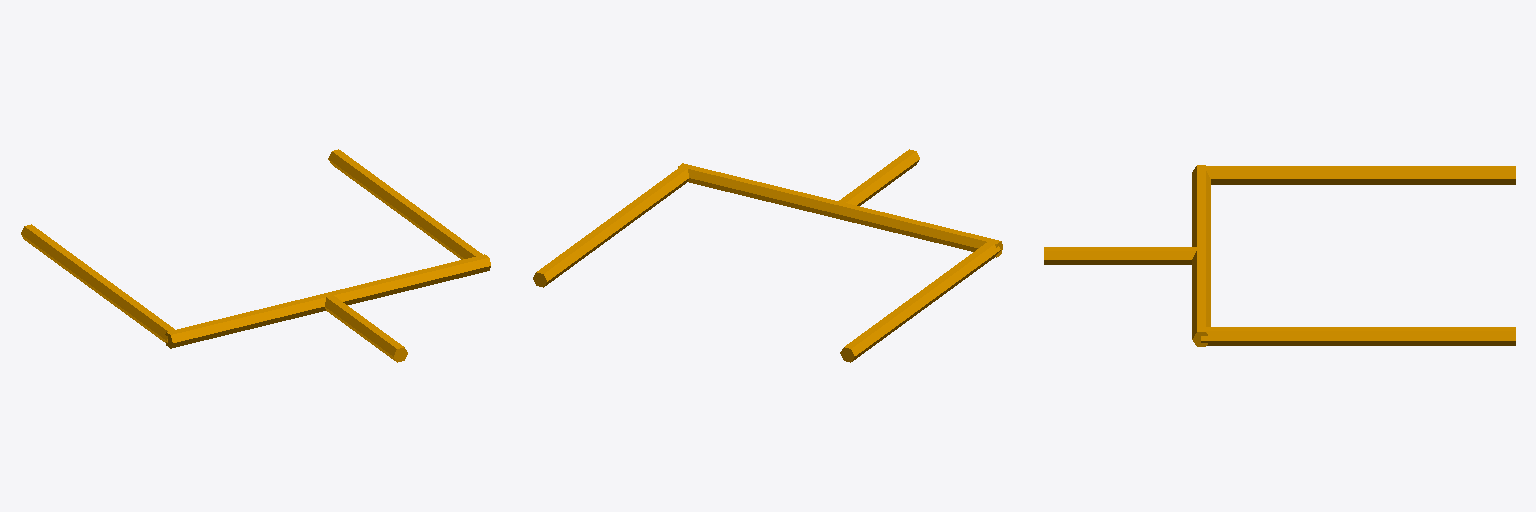
The robot description file, URDF, robot "gripper":
<?xml version="1.0"?>
<robot name="gripper">
    <!-- <link name="base_link">
    </link> -->
    <link name="gripper_link">
        <visual>
            <origin rpy="0 0 0" xyz="0 0 0" />
            <geometry>
                <mesh filename="./gripper_yes.obj" scale="1 1 1" />
            </geometry>
        </visual>
        <collision>
            <origin rpy="0 0 0" xyz="0 0 0" />
            <geometry>
                <mesh filename="./gripper_yes.obj" scale="1 1 1" />
            </geometry>
        </collision>
    </link>

    <!-- <joint name="gripper_base_joint" type="fixed">
        <origin rpy="0 0 0" xyz="0 0 0" />
        <parent link="base_link" />
        <child link="gripper_link"/>        
    </joint>
     -->
</robot>

--- Render facts (derived) ---
3 views of the same robot in one strip: view 1: azimuth 30°, elevation 25°; view 2: azimuth 150°, elevation 25°; view 3: azimuth 270°, elevation 25° (orthographic).
Robot: gripper — 1 links, 0 joints (none); root link gripper_link; default pose: every joint at zero.
Visible links, largest first — view 1: gripper_link; view 2: gripper_link; view 3: gripper_link.
Link boxes in pixels (x1,y1,x2,y2): gripper_link: (21, 149, 490, 362); gripper_link: (533, 149, 1002, 362); gripper_link: (1044, 165, 1515, 346).
Bounding box of the posed robot: 0.086 × 0.1013 × 0.0035 m (x, y, z).
1 mesh visuals loaded from 1 distinct referenced files (1 OBJ).